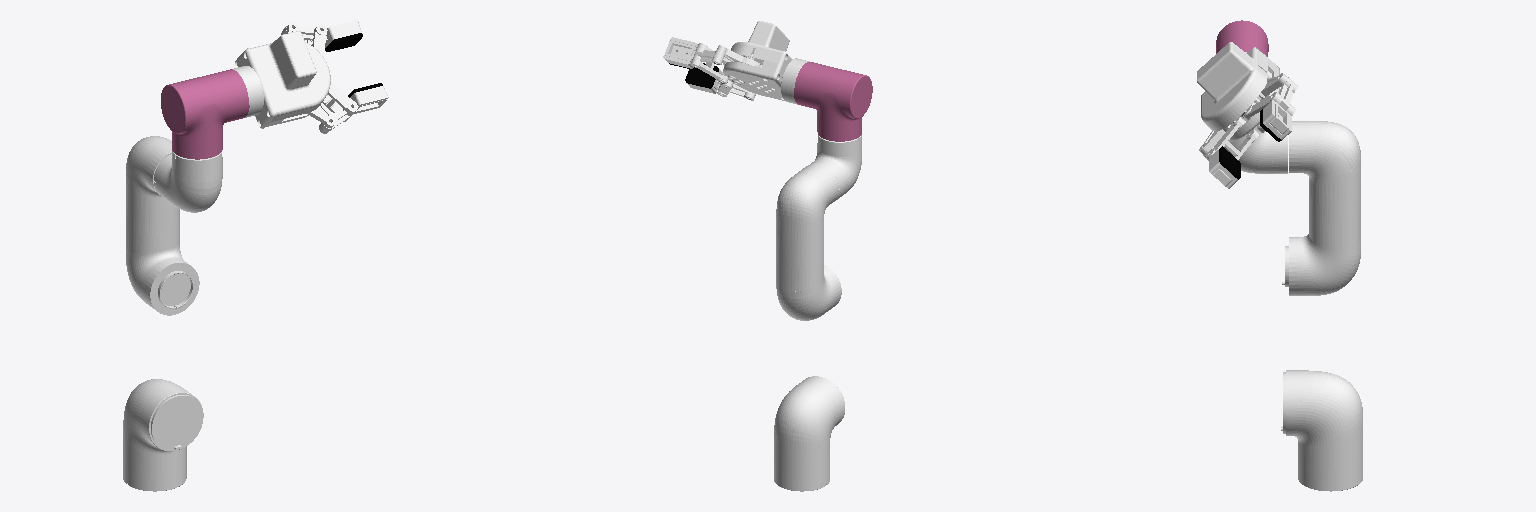
URDF robot description (mycobot_280_jn):
<?xml version="1.0"?>
<robot name="mycobot_280_jn">
  <link name="world"/>
  <joint name="world_to_joint1" type="fixed"><parent link="world"/><child link="joint1"/><origin xyz="0 0 0" rpy="0 0 0"/></joint>

  <link name="joint1">
    <visual>
      <geometry><mesh filename="package://positronic_description/urdf/mycobot_280_jn_sim/meshes/visual/joint1.dae"/></geometry>
    </visual>
    <collision>
      <geometry><mesh filename="package://positronic_description/urdf/mycobot_280_jn_sim/meshes/collision/joint1.stl"/></geometry>
    </collision>
    <inertial>
      <origin xyz="-0.000007 -0.000080 0.049738" rpy="0 0 0"/>
      <mass value="0.50875"/>
      <inertia ixx="1.2317e-03" ixy="6.9182e-09" ixz="-6.2406e-08" iyy="9.2410e-04" iyz="1.1339e-06" izz="1.1863e-03"/>
    </inertial>
  </link>
  <link name="joint2">
    <visual>
      <geometry><mesh filename="package://positronic_description/urdf/mycobot_280_jn_sim/meshes/visual/joint2.dae"/></geometry>
    </visual>
    <collision>
      <geometry><mesh filename="package://positronic_description/urdf/mycobot_280_jn_sim/meshes/collision/joint2.stl"/></geometry>
    </collision>
    <inertial>
      <origin xyz="-0.000000 -0.006642 -0.021543" rpy="0 0 0"/>
      <mass value="0.06376"/>
      <inertia ixx="4.6518e-05" ixy="-1.4217e-10" ixz="4.0220e-11" iyy="4.1988e-05" iyz="5.2079e-06" izz="2.3962e-05"/>
    </inertial>
  </link>
  <link name="joint3">
    <visual>
      <geometry><mesh filename="package://positronic_description/urdf/mycobot_280_jn_sim/meshes/visual/joint3.dae"/></geometry>
    </visual>
    <collision>
      <geometry><mesh filename="package://positronic_description/urdf/mycobot_280_jn_sim/meshes/collision/joint3.stl"/></geometry>
    </collision>
    <inertial>
      <origin xyz="-0.054329 -0.000001 0.055329" rpy="0 0 0"/>
      <mass value="0.11283"/>
      <inertia ixx="4.0982e-05" ixy="-4.4556e-09" ixz="-7.0957e-07" iyy="2.1152e-04" iyz="-8.7142e-10" izz="2.0504e-04"/>
    </inertial>
  </link>
  <link name="joint4">
    <visual>
      <geometry><mesh filename="package://positronic_description/urdf/mycobot_280_jn_sim/meshes/visual/joint4.dae"/></geometry>
    </visual>
    <collision>
      <geometry><mesh filename="package://positronic_description/urdf/mycobot_280_jn_sim/meshes/collision/joint4.stl"/></geometry>
    </collision>
    <inertial>
      <origin xyz="-0.045854 0.000000 0.007555" rpy="0 0 0"/>
      <mass value="0.08998"/>
      <inertia ixx="3.0322e-05" ixy="2.4186e-09" ixz="-2.9578e-06" iyy="1.3482e-04" iyz="1.3086e-09" izz="1.2647e-04"/>
    </inertial>
  </link>
  <link name="joint5">
    <visual>
      <geometry><mesh filename="package://positronic_description/urdf/mycobot_280_jn_sim/meshes/visual/joint5.dae"/></geometry>
    </visual>
    <collision>
      <geometry><mesh filename="package://positronic_description/urdf/mycobot_280_jn_sim/meshes/collision/joint5.stl"/></geometry>
    </collision>
    <inertial>
      <origin xyz="0.000001 -0.009519 -0.008481" rpy="0 0 0"/>
      <mass value="0.02887"/>
      <inertia ixx="1.1107e-05" ixy="2.2157e-10" ixz="1.0327e-10" iyy="8.0087e-06" iyz="1.5831e-06" izz="8.7282e-06"/>
    </inertial>
  </link>
  <link name="joint6">
    <visual>
      <geometry><mesh filename="package://positronic_description/urdf/mycobot_280_jn_sim/meshes/visual/joint6.dae"/></geometry>
    </visual>
    <collision>
      <geometry><mesh filename="package://positronic_description/urdf/mycobot_280_jn_sim/meshes/collision/joint6.stl"/></geometry>
    </collision>
    <inertial>
      <origin xyz="-0.000000 0.005619 -0.009142" rpy="0 0 0"/>
      <mass value="0.03611"/>
      <inertia ixx="1.6575e-05" ixy="1.3007e-11" ixz="9.1115e-11" iyy="1.1852e-05" iyz="-8.2298e-07" izz="1.2374e-05"/>
    </inertial>
  </link>
  <link name="joint6_flange">
    <visual>
      <geometry><mesh filename="package://positronic_description/urdf/mycobot_280_jn_sim/meshes/visual/joint6_flange.dae"/></geometry>
    </visual>
    <collision>
      <geometry><mesh filename="package://positronic_description/urdf/mycobot_280_jn_sim/meshes/collision/joint6_flange.stl"/></geometry>
    </collision>
    <inertial>
      <origin xyz="-0.000000 -0.000000 -0.005150" rpy="0 0 0"/>
      <mass value="0.00556"/>
      <inertia ixx="5.9851e-07" ixy="-5.1008e-24" ixz="1.4442e-24" iyy="5.9851e-07" iyz="-7.4388e-16" izz="1.0234e-06"/>
    </inertial>
  </link>
  <joint name="joint2_to_joint1" type="revolute">
    <parent link="joint1"/><child link="joint2"/>
    <origin xyz="0 0 0.15756" rpy="0 0 0"/>
    <axis xyz="0 0 1"/>
    <limit effort="10.0" lower="-2.9321" upper="2.9321" velocity="2.618"/>
    <dynamics damping="0.1" friction="0.01"/>
  </joint>
  <joint name="joint3_to_joint2" type="revolute">
    <parent link="joint2"/><child link="joint3"/>
    <origin xyz="0 0 -0.001" rpy="0 1.5708 -1.5708"/>
    <axis xyz="0 0 1"/>
    <limit effort="10.0" lower="-2.4434" upper="2.4434" velocity="2.618"/>
    <dynamics damping="0.1" friction="0.01"/>
  </joint>
  <joint name="joint4_to_joint3" type="revolute">
    <parent link="joint3"/><child link="joint4"/>
    <origin xyz="-0.1104 0 0" rpy="0 0 0"/>
    <axis xyz="0 0 1"/>
    <limit effort="10.0" lower="-2.6179" upper="2.6179" velocity="2.618"/>
    <dynamics damping="0.1" friction="0.01"/>
  </joint>
  <joint name="joint5_to_joint4" type="revolute">
    <parent link="joint4"/><child link="joint5"/>
    <origin xyz="-0.096 0 0.06462" rpy="0 0 -1.5708"/>
    <axis xyz="0 0 1"/>
    <limit effort="10.0" lower="-2.6179" upper="2.6179" velocity="2.618"/>
    <dynamics damping="0.1" friction="0.01"/>
  </joint>
  <joint name="joint6_to_joint5" type="revolute">
    <parent link="joint5"/><child link="joint6"/>
    <origin xyz="0 -0.07318 0" rpy="1.5708 -1.5708 0"/>
    <axis xyz="0 0 1"/>
    <limit effort="10.0" lower="-2.7052" upper="2.7925" velocity="2.618"/>
    <dynamics damping="0.1" friction="0.01"/>
  </joint>
  <joint name="joint6output_to_joint6" type="revolute">
    <parent link="joint6"/><child link="joint6_flange"/>
    <origin xyz="0 0.0456 0" rpy="-1.5708 0.7854 0"/>
    <axis xyz="0 0 1"/>
    <limit effort="10.0" lower="-3.14159" upper="3.14159" velocity="2.618"/>
    <dynamics damping="0.1" friction="0.01"/>
  </joint>
  <joint name="joint6output_to_gripper_base" type="fixed">
    <parent link="joint6_flange"/><child link="gripper_base"/>
    <origin xyz="0 0 0.0340" rpy="1.5708 0 0"/>
  </joint>
  <link name="gripper_base">
    <visual>
      <geometry><mesh filename="package://positronic_description/urdf/mycobot_280_jn_sim/meshes/visual/gripper_base.dae"/></geometry>
    </visual>
    <collision>
      <geometry><mesh filename="package://positronic_description/urdf/mycobot_280_jn_sim/meshes/collision/gripper_base.stl"/></geometry>
    </collision>
    <inertial>
      <origin xyz="-0.001001 -0.003635 0.008093" rpy="0 0 0"/>
      <mass value="0.07782"/>
      <inertia ixx="3.0829e-05" ixy="5.8945e-08" ixz="1.4872e-06" iyy="3.0356e-05" iyz="-2.3616e-07" izz="3.6504e-05"/>
    </inertial>
  </link>
  <link name="gripper_left1">
    <visual>
      <geometry><mesh filename="package://positronic_description/urdf/mycobot_280_jn_sim/meshes/visual/gripper_left1.dae"/></geometry>
    </visual>
    <collision>
      <geometry><mesh filename="package://positronic_description/urdf/mycobot_280_jn_sim/meshes/collision/gripper_left1.stl"/></geometry>
    </collision>
    <inertial>
      <origin xyz="0.008214 0.028640 -0.008200" rpy="0 0 0"/>
      <mass value="0.00900"/>
      <inertia ixx="2.1380e-06" ixy="-4.4640e-07" ixz="-5.0431e-18" iyy="5.4470e-07" iyz="1.1387e-17" izz="2.1781e-06"/>
    </inertial>
  </link>
  <link name="gripper_left2">
    <visual>
      <geometry><mesh filename="package://positronic_description/urdf/mycobot_280_jn_sim/meshes/visual/gripper_left2.dae"/></geometry>
    </visual>
    <collision>
      <geometry><mesh filename="package://positronic_description/urdf/mycobot_280_jn_sim/meshes/collision/gripper_left2.stl"/></geometry>
    </collision>
    <inertial>
      <origin xyz="-0.014480 0.007475 -0.008200" rpy="0 0 0"/>
      <mass value="0.00420"/>
      <inertia ixx="2.8523e-07" ixy="2.0839e-07" ixz="3.8170e-22" iyy="5.3324e-07" iyz="-1.9085e-22" izz="5.3908e-07"/>
    </inertial>
  </link>
  <link name="gripper_left3">
    <visual>
      <geometry><mesh filename="package://positronic_description/urdf/mycobot_280_jn_sim/meshes/visual/gripper_left3.dae"/></geometry>
    </visual>
    <collision>
      <geometry><mesh filename="package://positronic_description/urdf/mycobot_280_jn_sim/meshes/collision/gripper_left3.stl"/></geometry>
    </collision>
    <inertial>
      <origin xyz="-0.007273 0.003393 -0.000700" rpy="0 0 0"/>
      <mass value="0.00288"/>
      <inertia ixx="2.0033e-07" ixy="1.2707e-07" ixz="3.3597e-22" iyy="3.5146e-07" iyz="-2.0178e-22" izz="5.3980e-07"/>
    </inertial>
  </link>
  <link name="gripper_right1">
    <visual>
      <geometry><mesh filename="package://positronic_description/urdf/mycobot_280_jn_sim/meshes/visual/gripper_right1.dae"/></geometry>
    </visual>
    <collision>
      <geometry><mesh filename="package://positronic_description/urdf/mycobot_280_jn_sim/meshes/collision/gripper_right1.stl"/></geometry>
    </collision>
    <inertial>
      <origin xyz="-0.009429 0.029012 -0.008200" rpy="0 0 0"/>
      <mass value="0.00900"/>
      <inertia ixx="2.1380e-06" ixy="4.4639e-07" ixz="-5.0440e-18" iyy="5.4470e-07" iyz="-1.1388e-17" izz="2.1781e-06"/>
    </inertial>
  </link>
  <link name="gripper_right2">
    <visual>
      <geometry><mesh filename="package://positronic_description/urdf/mycobot_280_jn_sim/meshes/visual/gripper_right2.dae"/></geometry>
    </visual>
    <collision>
      <geometry><mesh filename="package://positronic_description/urdf/mycobot_280_jn_sim/meshes/collision/gripper_right2.stl"/></geometry>
    </collision>
    <inertial>
      <origin xyz="0.013373 0.007661 -0.008200" rpy="0 0 0"/>
      <mass value="0.00420"/>
      <inertia ixx="2.9105e-07" ixy="-2.1175e-07" ixz="-4.4531e-22" iyy="5.2741e-07" iyz="3.1809e-23" izz="5.3908e-07"/>
    </inertial>
  </link>
  <link name="gripper_right3">
    <visual>
      <geometry><mesh filename="package://positronic_description/urdf/mycobot_280_jn_sim/meshes/visual/gripper_right3.dae"/></geometry>
    </visual>
    <collision>
      <geometry><mesh filename="package://positronic_description/urdf/mycobot_280_jn_sim/meshes/collision/gripper_right3.stl"/></geometry>
    </collision>
    <inertial>
      <origin xyz="0.006227 0.003481 -0.000700" rpy="0 0 0"/>
      <mass value="0.00288"/>
      <inertia ixx="2.0380e-07" ixy="-1.2918e-07" ixz="-2.1471e-22" iyy="3.4785e-07" iyz="-1.6600e-22" izz="5.3966e-07"/>
    </inertial>
  </link>
  <joint name="gripper_controller" type="revolute">
    <parent link="gripper_base"/><child link="gripper_left3"/>
    <origin xyz="-0.012 0.005 0" rpy="0 0 0"/>
    <axis xyz="0 0 1"/>
    <limit effort="10.0" lower="-0.74" upper="0.15" velocity="1.0"/>
    <dynamics damping="0.1" friction="0.01"/>
  </joint>
  <joint name="gripper_base_to_gripper_left2" type="revolute">
    <parent link="gripper_base"/><child link="gripper_left2"/>
    <origin xyz="-0.005 0.027 0" rpy="0 0 0"/>
    <axis xyz="0 0 1"/>
    <limit effort="10.0" lower="-0.8" upper="0.5" velocity="1.0"/>
    <dynamics damping="0.1" friction="0.01"/>
    <mimic joint="gripper_controller" multiplier="1.0" offset="0"/>
  </joint>
  <joint name="gripper_left3_to_gripper_left1" type="revolute">
    <parent link="gripper_left3"/><child link="gripper_left1"/>
    <origin xyz="-0.027 0.016 0" rpy="0 0 0"/>
    <axis xyz="0 0 1"/>
    <limit effort="10.0" lower="-0.5" upper="0.8" velocity="1.0"/>
    <dynamics damping="0.1" friction="0.01"/>
    <mimic joint="gripper_controller" multiplier="-1.0" offset="0"/>
  </joint>
  <joint name="gripper_base_to_gripper_right3" type="revolute">
    <parent link="gripper_base"/><child link="gripper_right3"/>
    <origin xyz="0.012 0.005 0" rpy="0 0 0"/>
    <axis xyz="0 0 1"/>
    <limit effort="10.0" lower="-0.15" upper="0.8" velocity="1.0"/>
    <dynamics damping="0.1" friction="0.01"/>
    <mimic joint="gripper_controller" multiplier="-1.0" offset="0"/>
  </joint>
  <joint name="gripper_base_to_gripper_right2" type="revolute">
    <parent link="gripper_base"/><child link="gripper_right2"/>
    <origin xyz="0.005 0.027 0" rpy="0 0 0"/>
    <axis xyz="0 0 1"/>
    <limit effort="10.0" lower="-0.5" upper="0.8" velocity="1.0"/>
    <dynamics damping="0.1" friction="0.01"/>
    <mimic joint="gripper_controller" multiplier="-1.0" offset="0"/>
  </joint>
  <joint name="gripper_right3_to_gripper_right1" type="revolute">
    <parent link="gripper_right3"/><child link="gripper_right1"/>
    <origin xyz="0.027 0.016 0" rpy="0 0 0"/>
    <axis xyz="0 0 1"/>
    <limit effort="10.0" lower="-0.8" upper="0.5" velocity="1.0"/>
    <dynamics damping="0.1" friction="0.01"/>
    <mimic joint="gripper_controller" multiplier="1.0" offset="0"/>
  </joint>

  <gazebo reference="joint2"><turnGravityOff>true</turnGravityOff></gazebo>
  <gazebo reference="joint3"><turnGravityOff>true</turnGravityOff></gazebo>
  <gazebo reference="joint4"><turnGravityOff>true</turnGravityOff></gazebo>
  <gazebo reference="joint5"><turnGravityOff>true</turnGravityOff></gazebo>
  <gazebo reference="joint6"><turnGravityOff>true</turnGravityOff></gazebo>
  <gazebo reference="joint6_flange"><turnGravityOff>true</turnGravityOff></gazebo>
  <gazebo reference="gripper_base"><turnGravityOff>true</turnGravityOff></gazebo>
  <gazebo reference="gripper_left1"><turnGravityOff>true</turnGravityOff></gazebo>
  <gazebo reference="gripper_left2"><turnGravityOff>true</turnGravityOff></gazebo>
  <gazebo reference="gripper_left3"><turnGravityOff>true</turnGravityOff></gazebo>
  <gazebo reference="gripper_right1"><turnGravityOff>true</turnGravityOff></gazebo>
  <gazebo reference="gripper_right2"><turnGravityOff>true</turnGravityOff></gazebo>
  <gazebo reference="gripper_right3"><turnGravityOff>true</turnGravityOff></gazebo>
</robot>

--- What the picture shows (computed from the rendered views, not written in the file) ---
The picture shows the robot from 3 angles, left to right: view 1: azimuth 30°, elevation 25°; view 2: azimuth 150°, elevation 25°; view 3: azimuth 270°, elevation 25°; orthographic projection.
Model mycobot_280_jn with 15 links and 14 joints (12 revolute, 2 fixed), rooted at world, posed all joints at 0.
Visible links, largest first — view 1: joint4, joint2, joint6, gripper_base, joint5, gripper_right1, gripper_left1, joint6_flange, gripper_right2; view 2: joint4, joint2, joint6, gripper_base, joint5, gripper_left1, gripper_right1, joint6_flange; view 3: joint4, joint2, gripper_base, joint5, gripper_left1, joint6, gripper_right1, gripper_right2.
Link boxes in pixels (x1,y1,x2,y2): joint4: (126,136,199,315); joint2: (123,379,203,491); joint6: (161,69,249,159); gripper_base: (235,31,330,128); joint5: (154,151,222,212); gripper_right1: (319,83,388,133); gripper_left1: (281,20,362,51); joint6_flange: (233,66,263,117); gripper_right2: (322,81,357,121); joint4: (776,163,841,320); joint2: (774,376,844,491); joint6: (794,62,872,141); gripper_base: (723,21,792,100); joint5: (811,135,861,201); gripper_left1: (663,37,724,69); gripper_right1: (685,63,755,100); joint6_flange: (781,58,809,104); joint4: (1282,121,1360,295); joint2: (1281,370,1362,491); gripper_base: (1197,42,1279,141); joint5: (1217,126,1287,173); gripper_left1: (1260,77,1297,141); joint6: (1216,20,1268,56); gripper_right1: (1203,146,1240,188); gripper_right2: (1205,117,1258,159).
Bounding box of the posed robot: 0.1782 × 0.122 × 0.387 m (x, y, z).
Meshes: 14 distinct files referenced, 12 mesh visuals loaded (12 Collada DAE); not drawn: 2 (reference not matched to a file when rendering).
